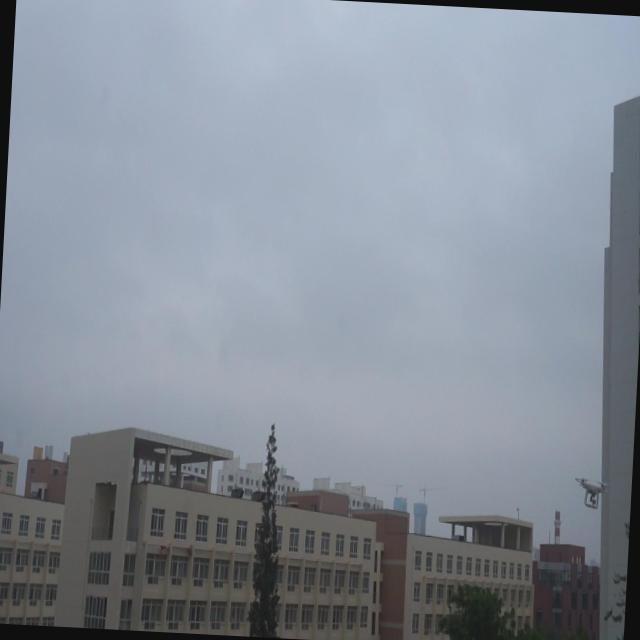drone: (576, 472, 610, 514)
